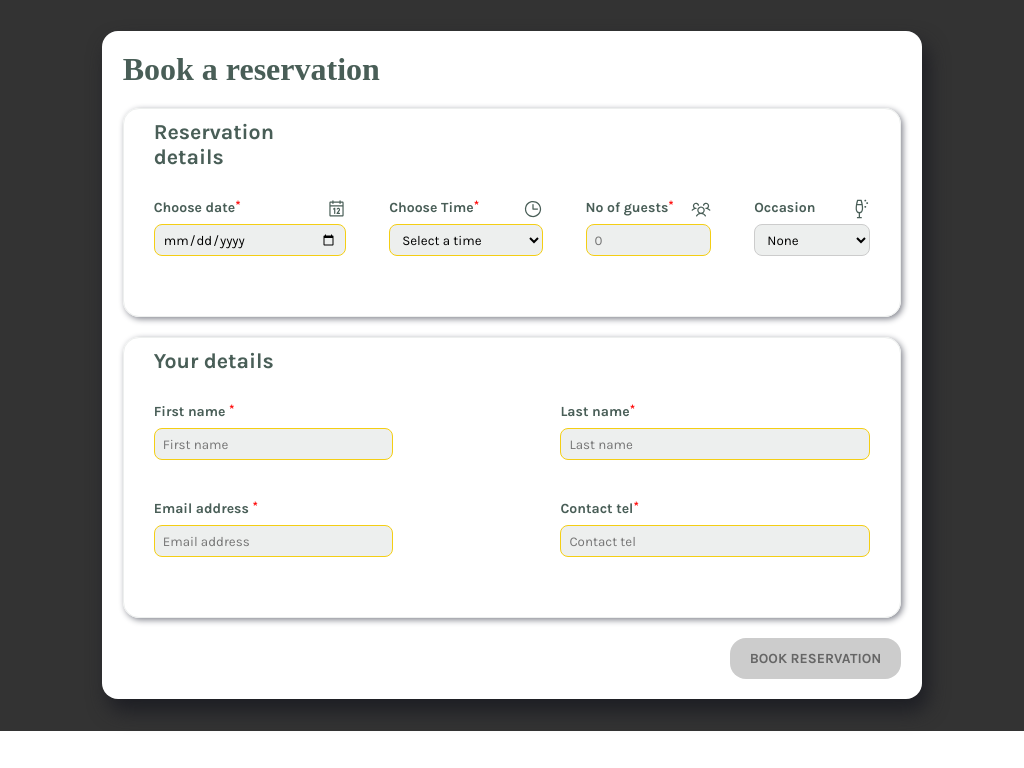
BookingForm field validation tests › validates touched but blank invalid email input
Type "gor" into the field labelled "Email address *" at (274, 541), box [154,525,393,557]
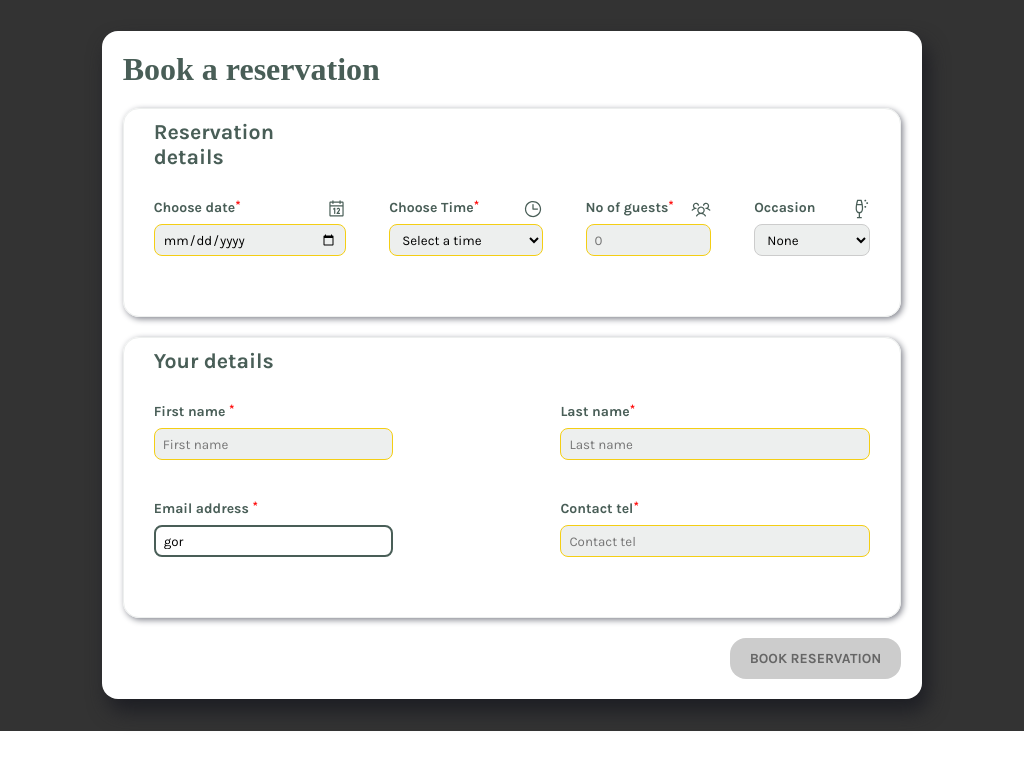
Clear the field labelled "Email address *" at (274, 541), box [154,525,393,557]
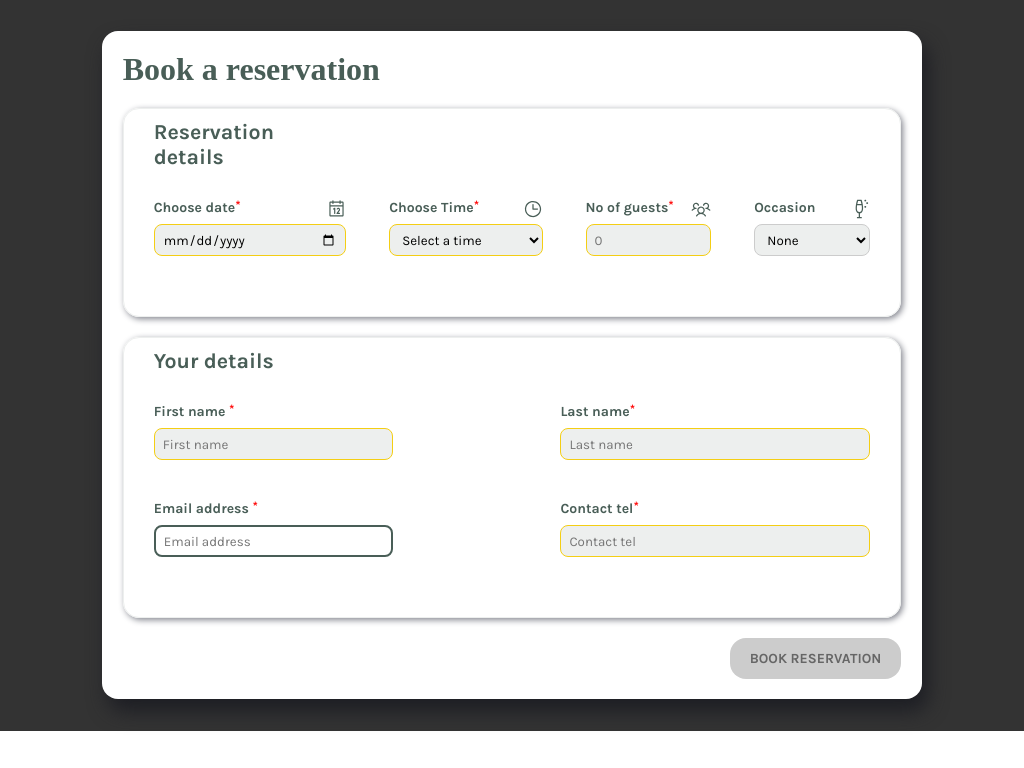
Press Tab
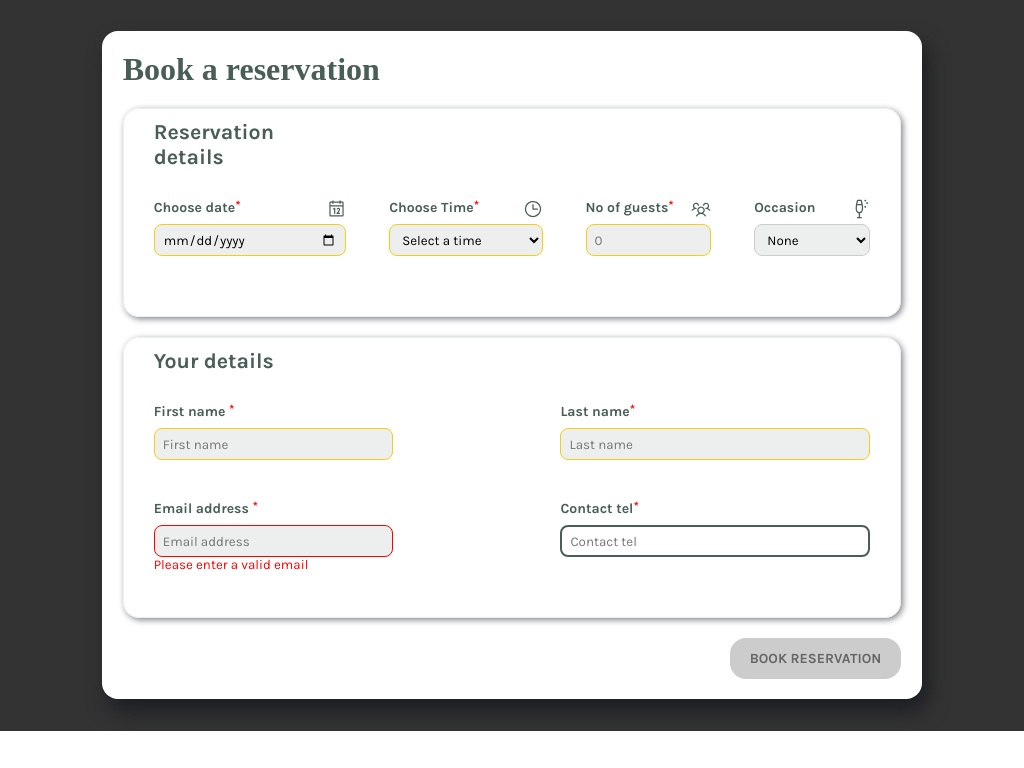
Now the text "Please enter a valid email" is shown, box [154,557,308,572]
